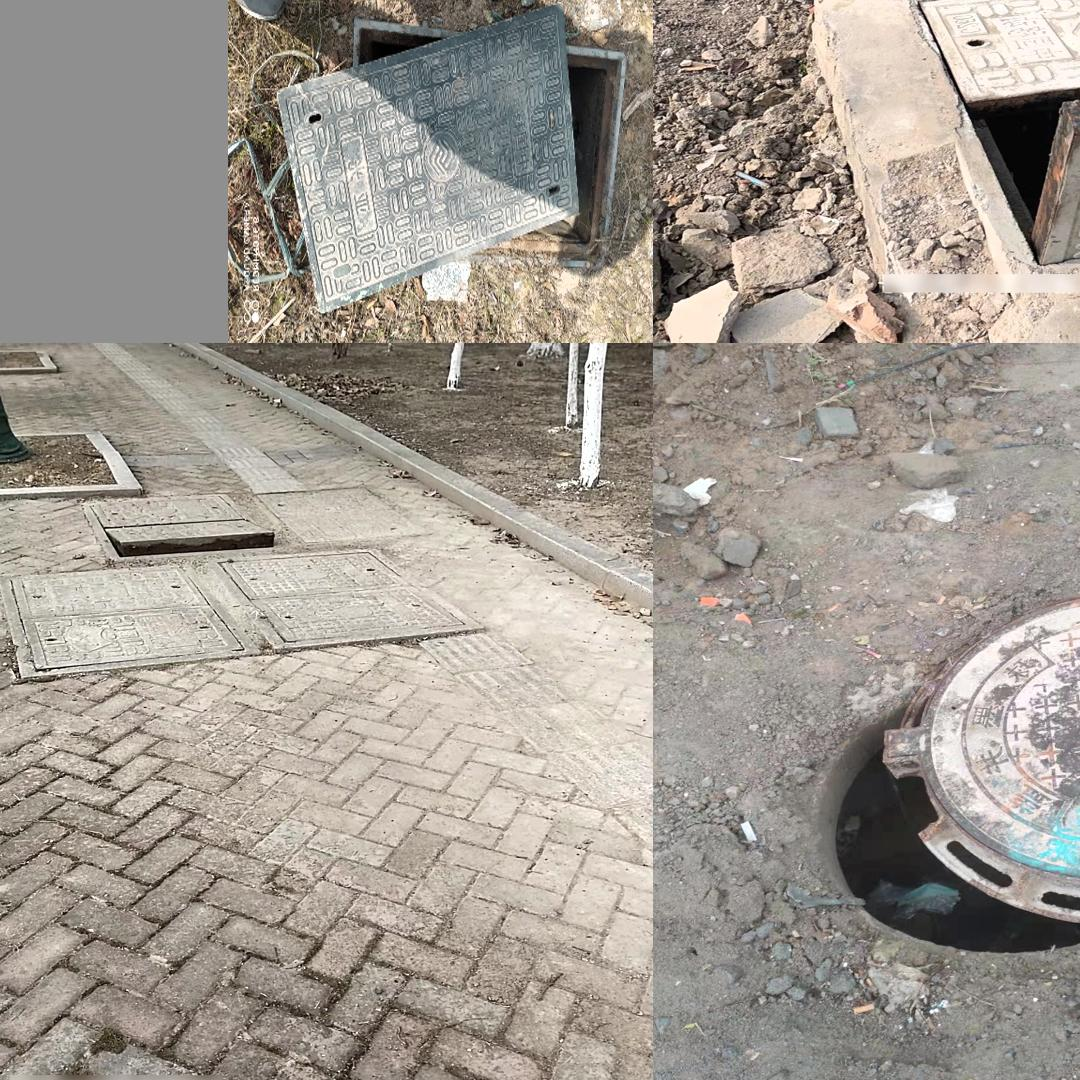good: (0, 546, 486, 681)
uncovered: (276, 6, 628, 314), (817, 589, 1080, 950), (902, 0, 1080, 342), (80, 491, 276, 557)
